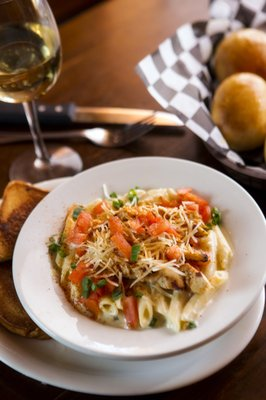sushi: (15, 162, 265, 358)
